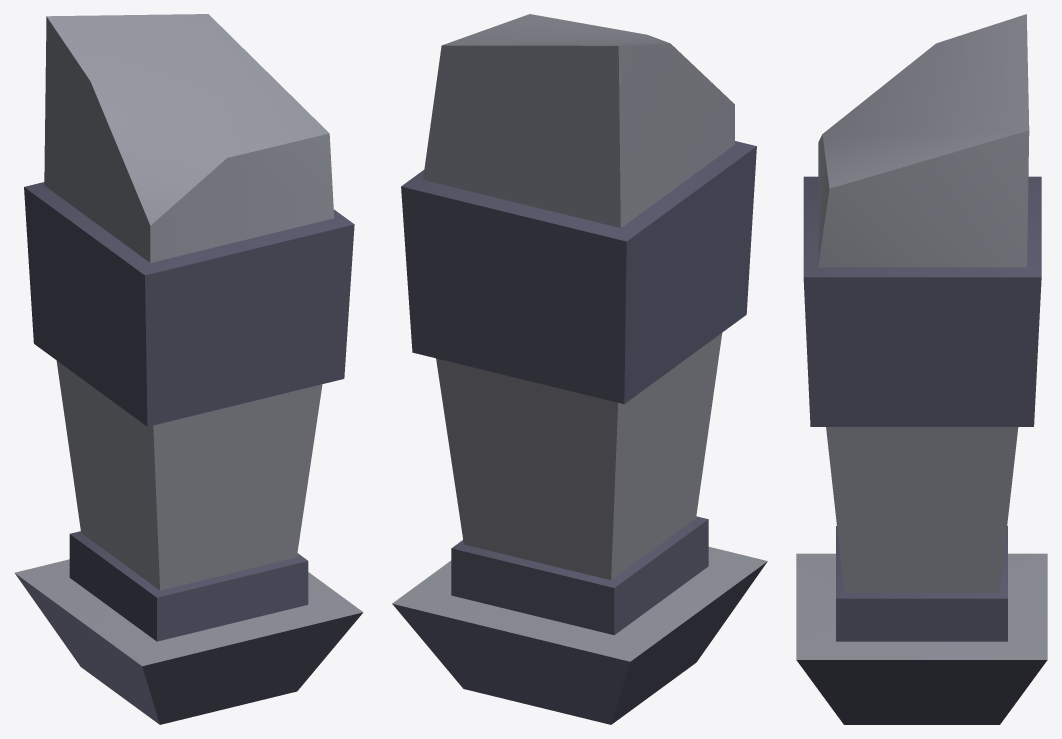
The model's file is pilar_quebrado.fbx.
3 views of the same model, side by side, from view 1: azimuth 30°, elevation 25°; view 2: azimuth 150°, elevation 25°; view 3: azimuth 270°, elevation 25° (orthographic). The views are drawn at different scales.
Parts seen in each view (by area): view 1: stone_pilar; view 2: stone_pilar; view 3: stone_pilar.
Boxes of the visible parts, x1=… form: stone_pilar: x1=14, y1=14, x2=363, y2=724; stone_pilar: x1=392, y1=14, x2=767, y2=724; stone_pilar: x1=796, y1=14, x2=1047, y2=724.
Size of the model in its own units: 240 by 669 by 240.
